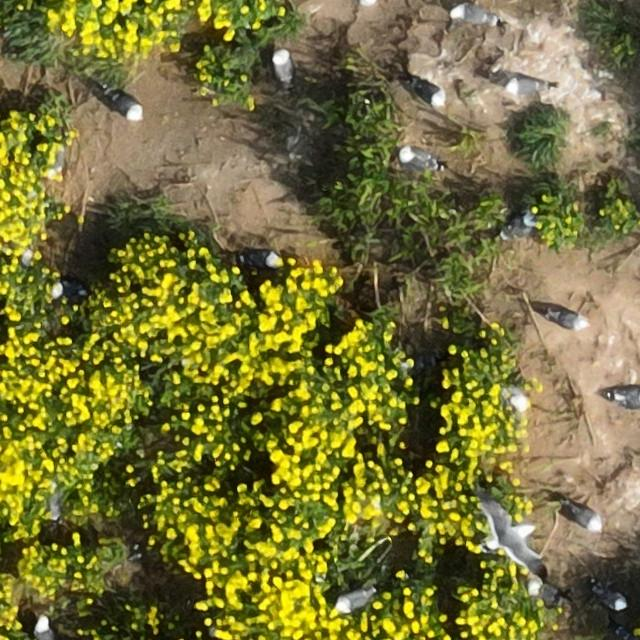F: (490, 511, 546, 577)
umineko: (109, 92, 143, 119), (570, 505, 602, 532), (454, 7, 496, 26), (336, 588, 372, 609), (411, 82, 443, 105), (400, 150, 436, 170), (503, 215, 534, 238), (272, 50, 291, 84), (551, 311, 585, 330), (598, 587, 627, 609), (506, 78, 540, 96), (50, 282, 86, 299), (244, 251, 278, 268), (506, 388, 530, 412), (613, 390, 640, 410), (35, 616, 54, 640), (20, 246, 33, 267)
